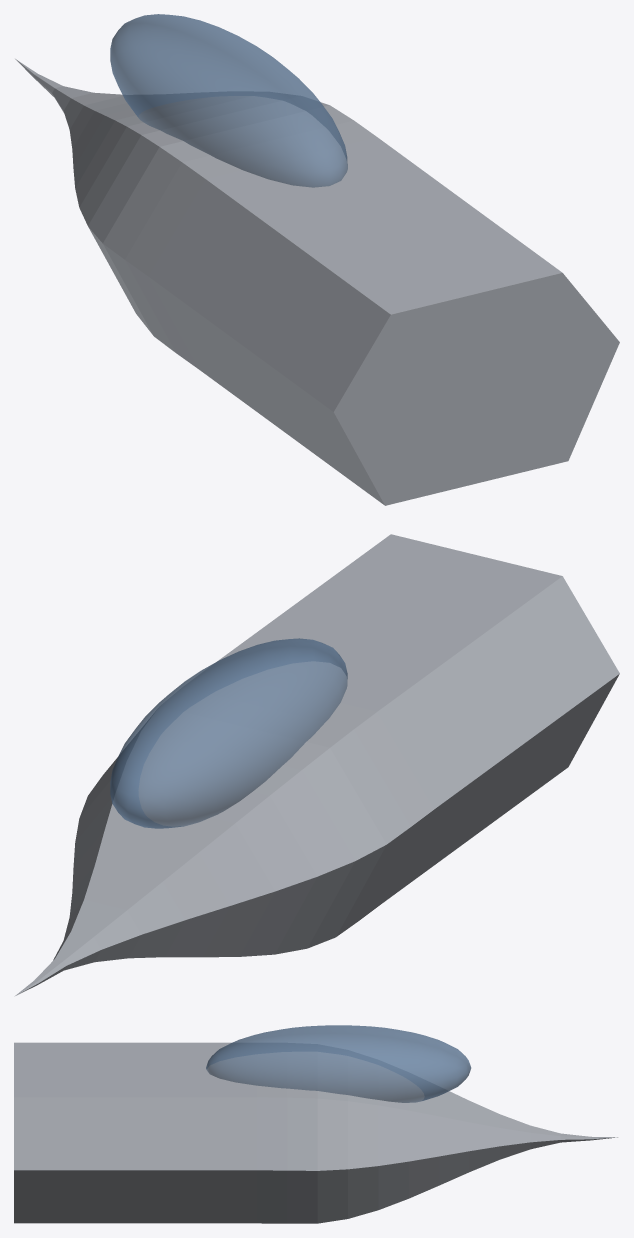
The model's file is f22_head.glb.
3 views of the same model, one above another, from view 1: azimuth 30°, elevation 25°; view 2: azimuth 150°, elevation 25°; view 3: azimuth 270°, elevation 25° (orthographic). The views are drawn at different scales.
Visible parts, largest first — view 1: f22_head; view 2: f22_head; view 3: f22_head.
Part boxes in pixels (x1,y1,x2,y2): f22_head: (15, 14, 619, 505); f22_head: (14, 534, 619, 996); f22_head: (14, 1025, 617, 1223).
Size of the model in its own units: 1.5 by 1.26 by 4.2.
